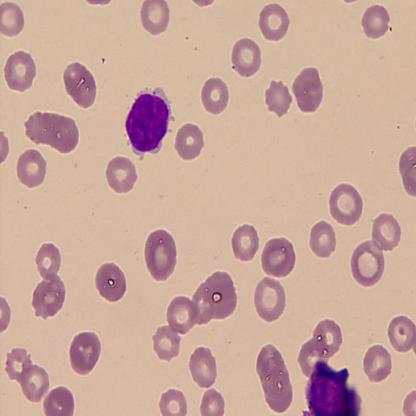Lymphocyte: (123, 85, 175, 159)
